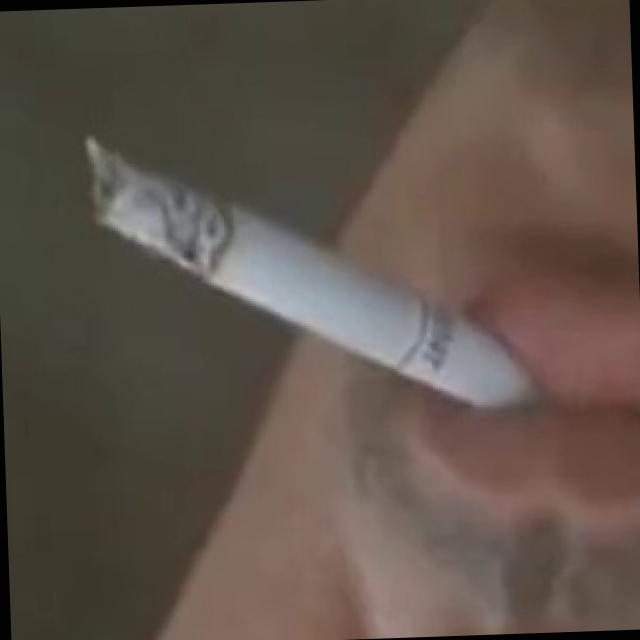smoke: (66, 103, 558, 464)
